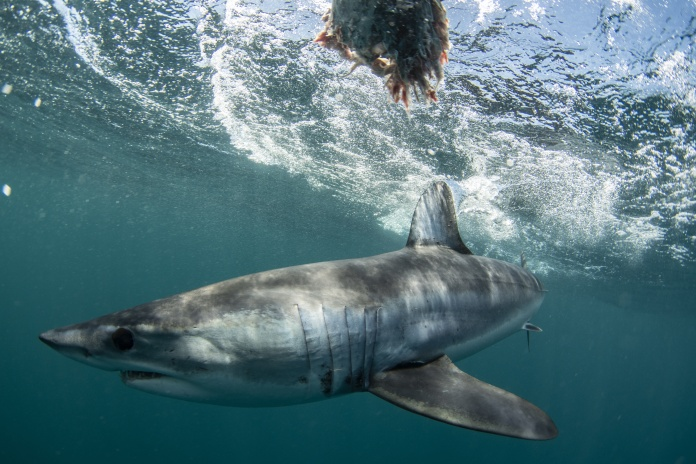Mako: (35, 178, 568, 443)
